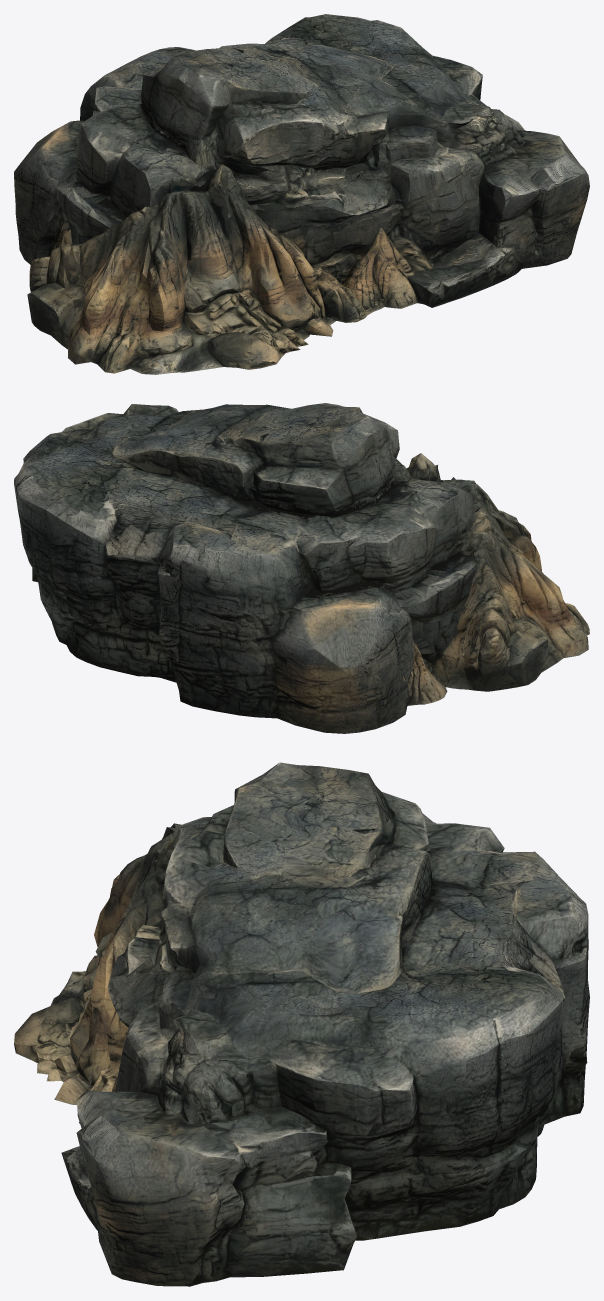
The model's file is monolith.glb.
3 renders of one model, top to bottom at view 1: azimuth 30°, elevation 25°; view 2: azimuth 150°, elevation 25°; view 3: azimuth 270°, elevation 25°, orthographic. The views are drawn at different scales.
Parts seen in each view (by area): view 1: mesh_node; view 2: mesh_node; view 3: mesh_node.
Part boxes in pixels (box(x1,y1,x2,y2)): mesh_node: box(14, 14, 589, 374); mesh_node: box(14, 403, 589, 733); mesh_node: box(14, 762, 589, 1286).
Bounding box in the file's own units: 1.89 × 0.7708 × 1.33.
Materials: 1 (1 with a texture image).
